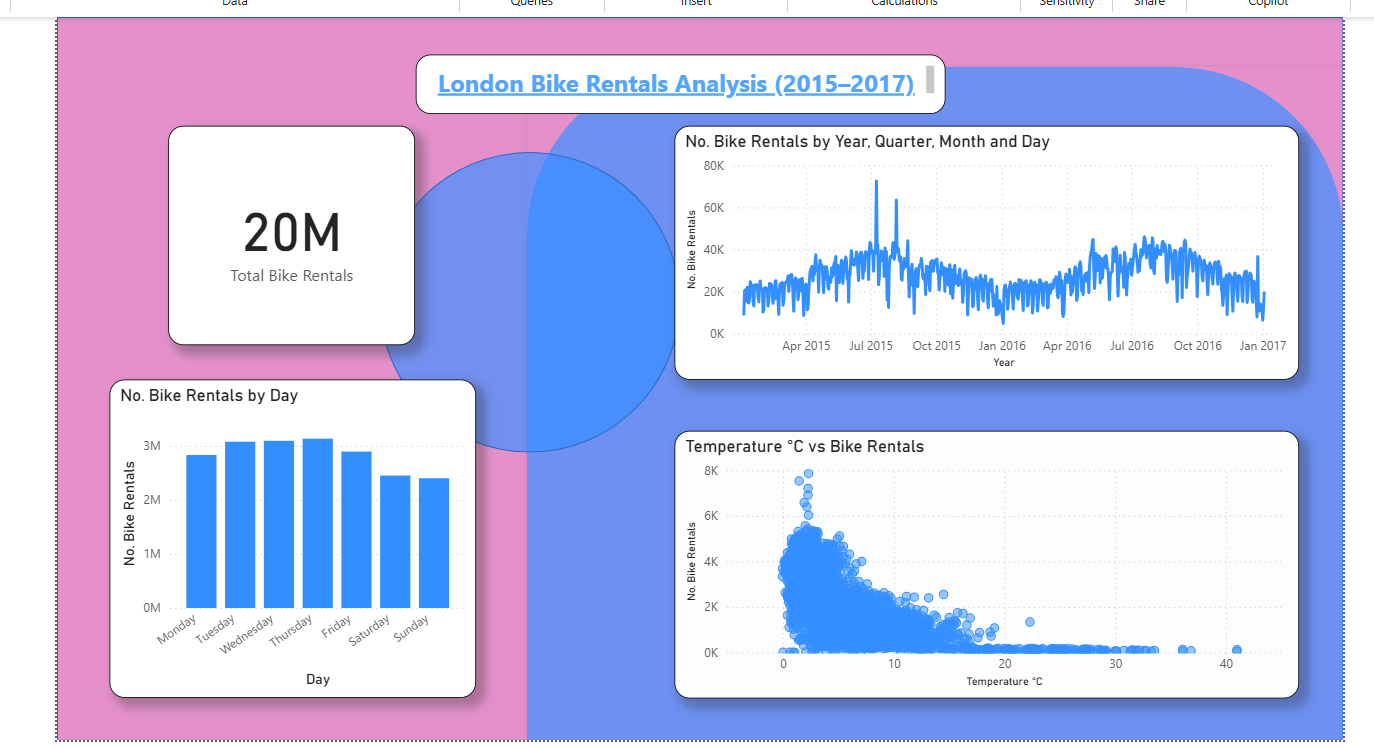

The page's visual inventory and layout, read from the dashboard file:
{"tool":"powerbi","page":{"name":"Page 1","canvas":[1280,720],"ordinal":0},"visuals":[{"type":"shape","box":[0,0,1280.3,720.4],"z":1000},{"type":"shape","box":[467.9,49.4,812.4,671],"z":1750},{"type":"shape","box":[321.1,134.5,299.1,299.1],"z":1875},{"type":"lineChart","fields":{"Y":["Sum(london_merged.cnt)"],"Category":["london_merged.Date.Variation.Date Hierarchy.Year","london_merged.Date.Variation.Date Hierarchy.Quarter","london_merged.Date.Variation.Date Hierarchy.Month","london_merged.Date.Variation.Date Hierarchy.Day"]},"box":[614.8,108.4,621.6,252.5],"z":2000},{"type":"columnChart","fields":{"Y":["Sum(london_merged.cnt)"],"Category":["london_merged.Weekday"]},"box":[52.1,360.9,365,317],"z":3000},{"type":"card","fields":{"Values":["Sum(london_merged.cnt)"]},"box":[111.1,108.4,245.6,218.2],"z":4000},{"type":"scatterChart","title":"Temperature °C vs Bike Rentals","fields":{"Y":["Sum(london_merged.cnt)"],"X":["Sum(london_merged.Temperature_C)"]},"box":[614.8,411.7,621.6,266.2],"z":5000},{"type":"textbox","box":[356.8,37,526.9,59],"z":6500}]}

Visuals, with their boxes on the page's 1280x720 design canvas (x1, y1, x2, y2). These are canvas units, not pixel positions in the 1374x748 screenshot, which may show the page scaled, cropped or inside an application window:
shape: {"x1": 0, "y1": 0, "x2": 1280, "y2": 720}
shape: {"x1": 468, "y1": 49, "x2": 1280, "y2": 720}
shape: {"x1": 321, "y1": 134, "x2": 620, "y2": 434}
lineChart - Sum(london_merged.cnt) x london_merged.Date.Variation.Date Hierarchy.Year: {"x1": 615, "y1": 108, "x2": 1236, "y2": 361}
columnChart - Sum(london_merged.cnt) x london_merged.Weekday: {"x1": 52, "y1": 361, "x2": 417, "y2": 678}
card - Sum(london_merged.cnt): {"x1": 111, "y1": 108, "x2": 357, "y2": 327}
"Temperature °C vs Bike Rentals" scatterChart: {"x1": 615, "y1": 412, "x2": 1236, "y2": 678}
textbox: {"x1": 357, "y1": 37, "x2": 884, "y2": 96}
